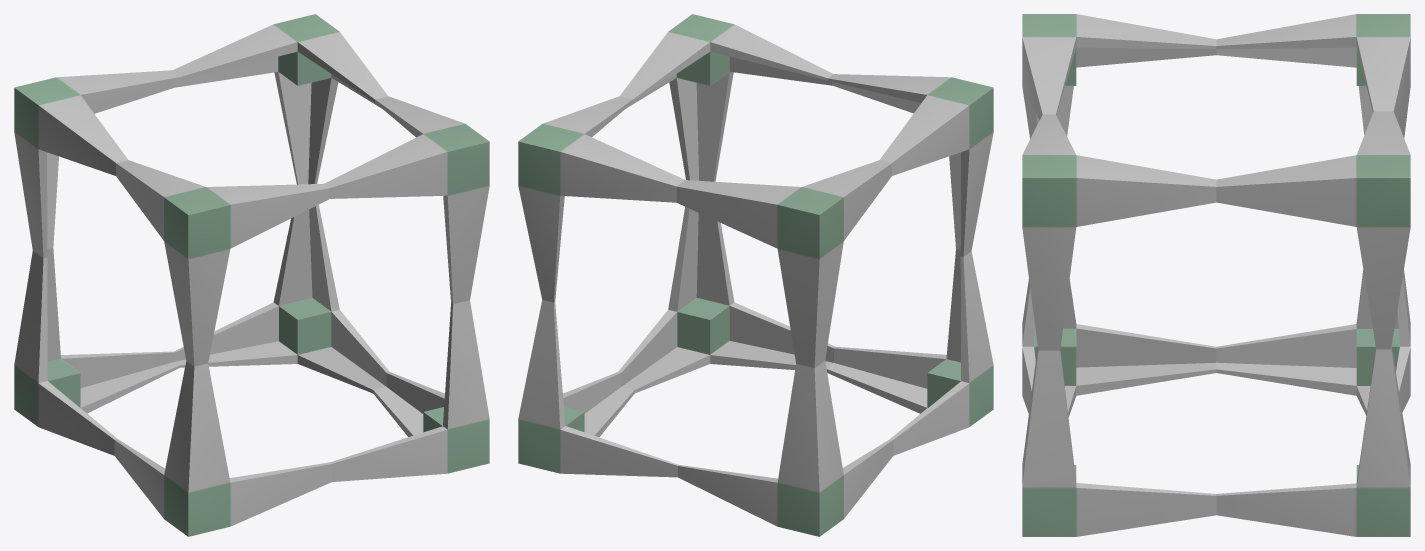
The model's file is Block_01.fbx.
The picture shows the model from 3 angles, left to right: view 1: azimuth 30°, elevation 25°; view 2: azimuth 150°, elevation 25°; view 3: azimuth 270°, elevation 25°; orthographic projection. The views are drawn at different scales.
Visible parts, largest first — view 1: Block; view 2: Block; view 3: Block.
Boxes of the visible parts, x1=… form: Block: x1=14, y1=14, x2=489, y2=536; Block: x1=518, y1=14, x2=993, y2=536; Block: x1=1022, y1=14, x2=1410, y2=536.
Size of the model in its own units: 1.38 by 1.4 by 1.38.
Materials: 1 (1 with a texture image).
